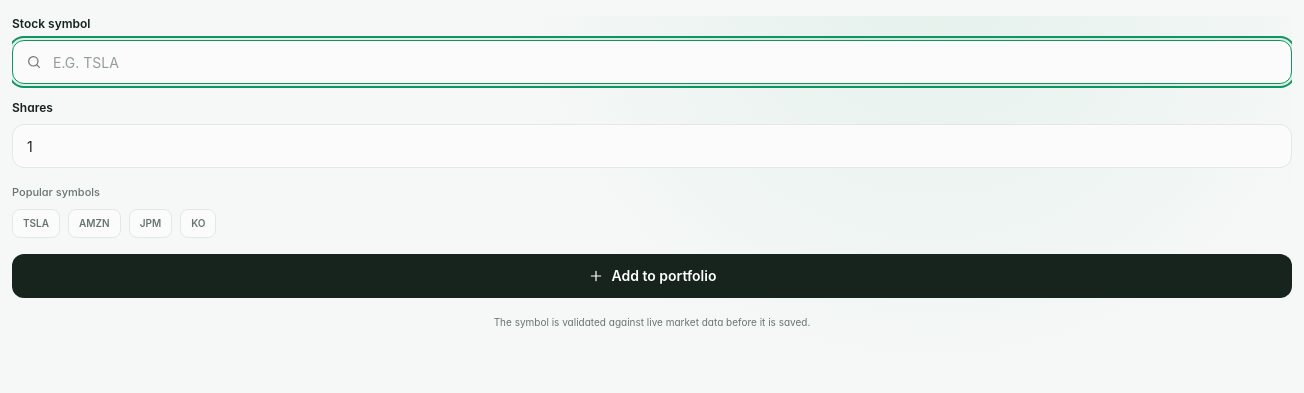
Test: AddPositionForm › validates the ticker and share precision before submitting
Type "$bad" into the field labelled "Stock symbol". click: (652, 62)
box: x1=12 y1=40 x2=1292 y2=84
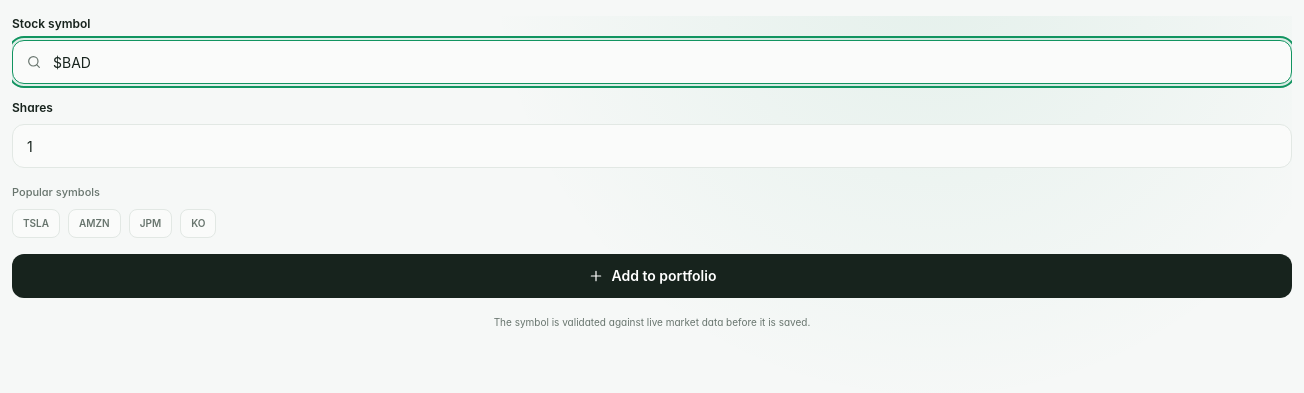
Click the button "Add to portfolio". click: (652, 276)
box: x1=12 y1=254 x2=1292 y2=298
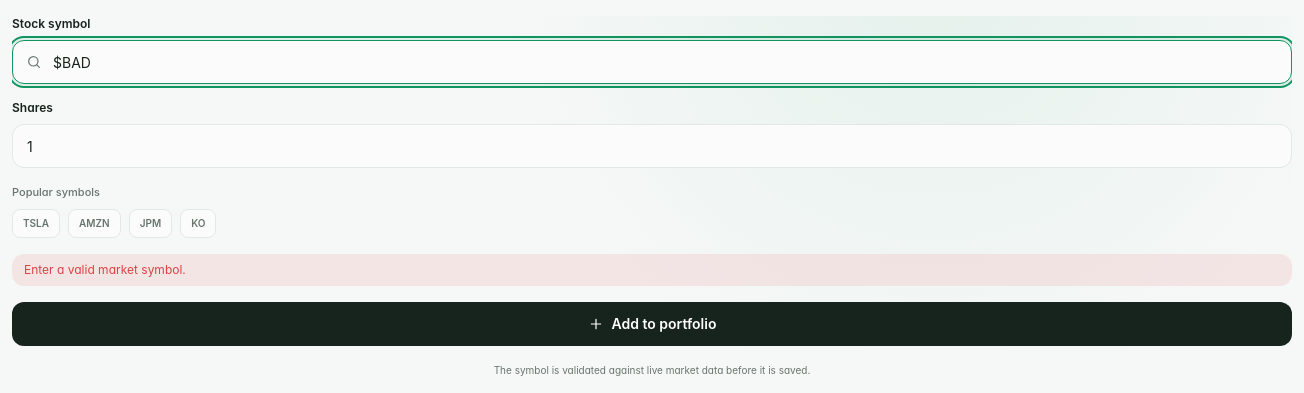
Expected: the message reads "Enter a valid market symbol.", x1=24 y1=262 x2=186 y2=276
